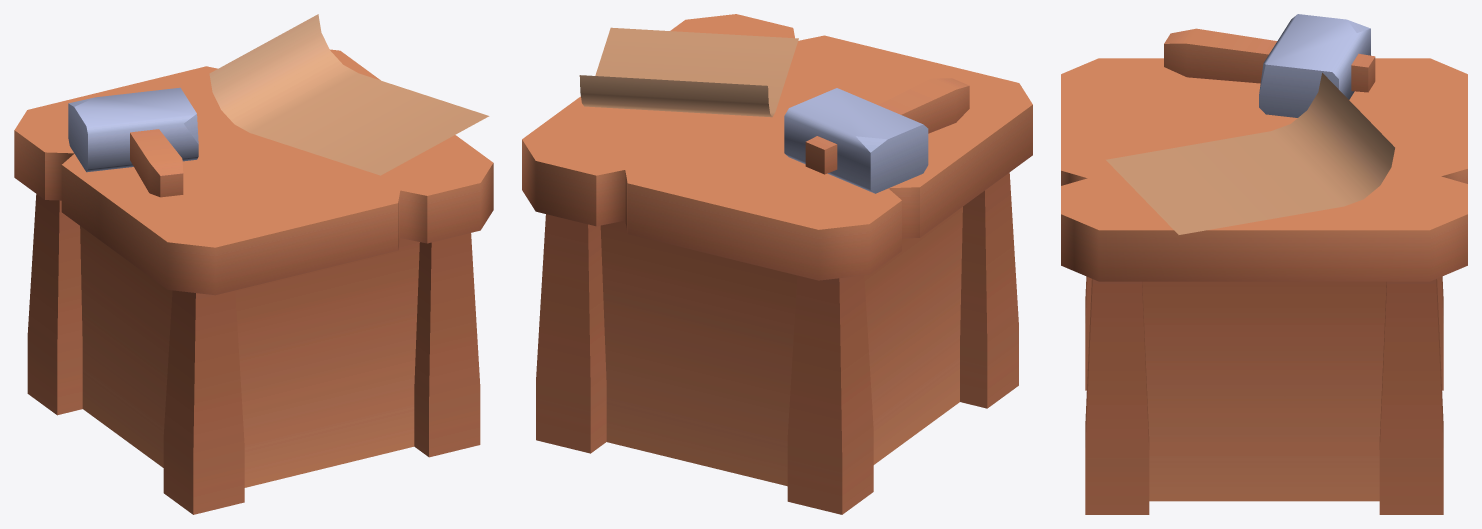
File: workbench.glb
3 renders of one model, left to right at view 1: azimuth 30°, elevation 25°; view 2: azimuth 150°, elevation 25°; view 3: azimuth 270°, elevation 25°, orthographic. The views are drawn at different scales.
Visible parts, largest first — view 1: workbench; view 2: workbench; view 3: workbench.
Part boxes in pixels (x1,y1,x2,y2): workbench: (14, 14, 493, 514); workbench: (522, 14, 1032, 514); workbench: (1061, 14, 1467, 514).
Size of the model in its own units: 0.3257 by 0.2866 by 0.2956.
Materials: 1 (1 with a texture image).
